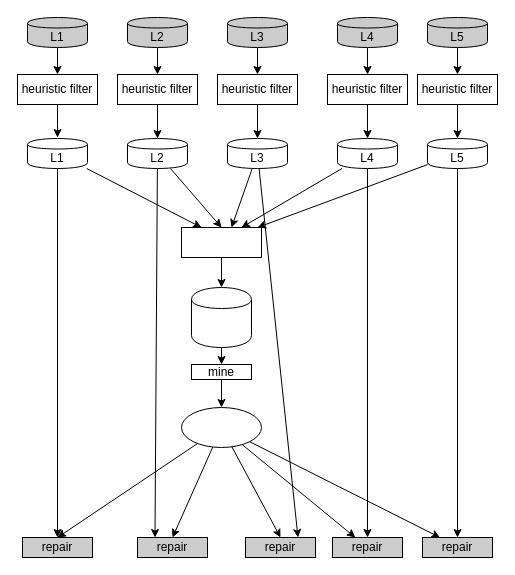
Some shapes in this 515 by 575 pixel diagram are drawn without their labels. Here are the shapes that lost their labels. From the top down, the centre of each, then its label:
At point (221, 242): "union&filter".
At point (221, 317): "L_M".
At point (221, 427): "Petri net".
